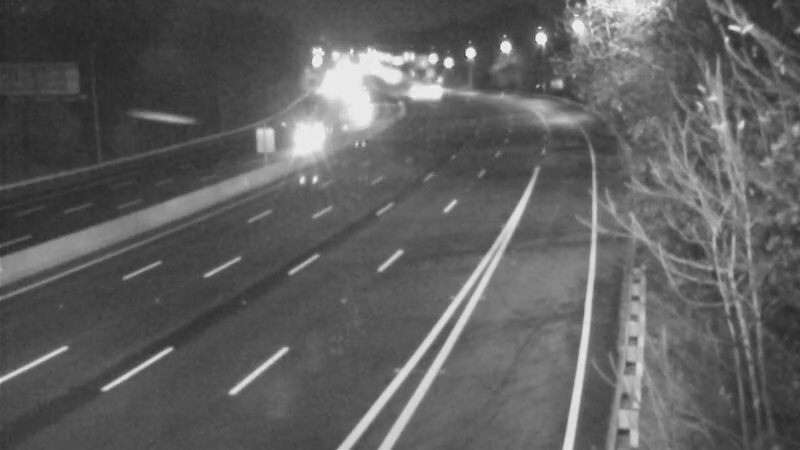vehicle: (383, 69, 433, 119), (274, 107, 324, 157), (335, 84, 385, 134)
